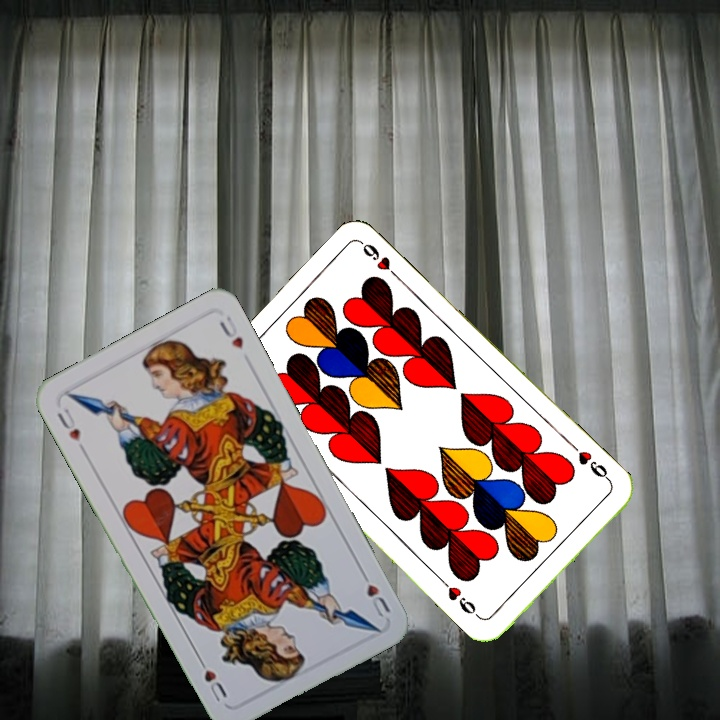H9: (574, 447, 614, 485)
HU: (356, 565, 393, 620), (53, 403, 88, 455)
